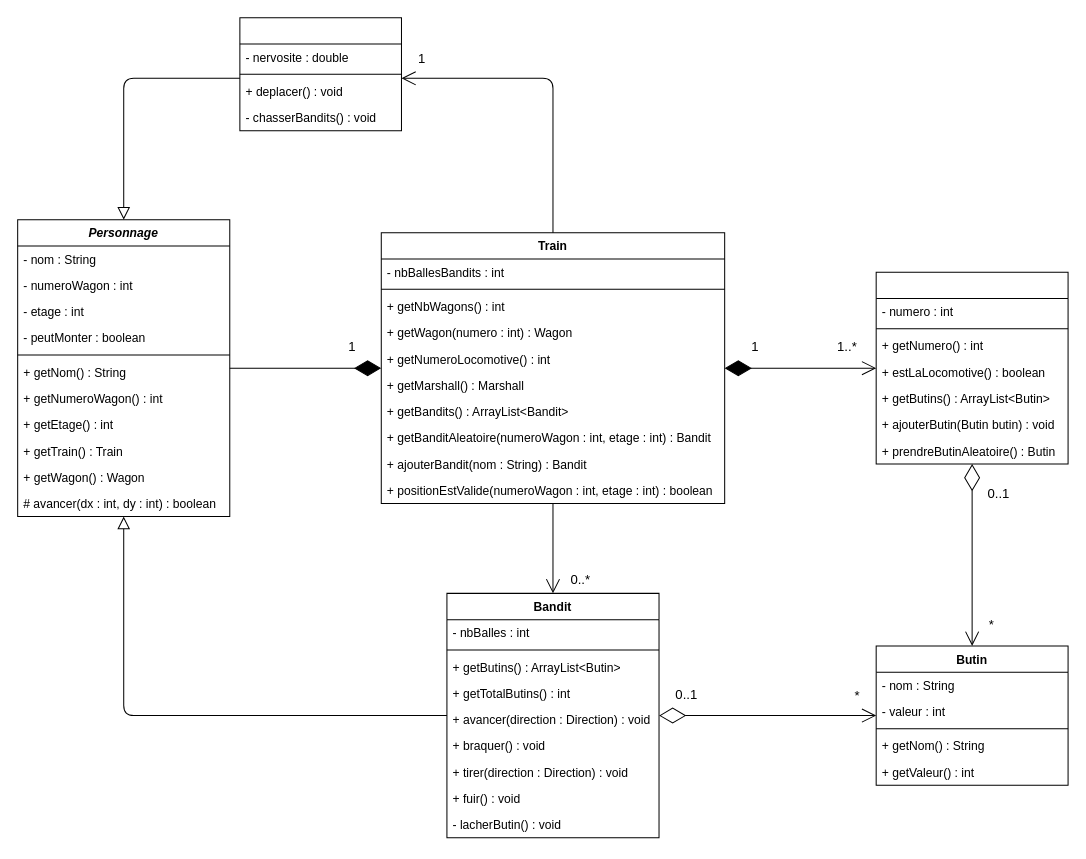
This 1086x859 diagram has some shape labels left out. The box of each missing label's shape, as (x1, y1, x2, y2) in pixels:
Marshall: (239, 17, 401, 131)
Wagon: (875, 271, 1068, 464)
